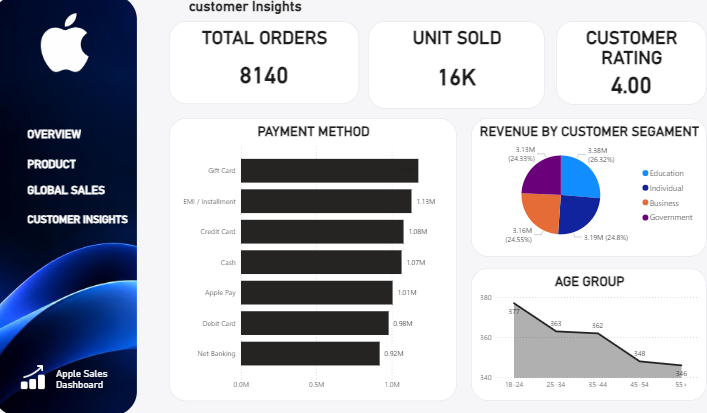

The dashboard page shown, as its layout file describes it:
{"tool":"powerbi","page":{"name":"Customer Insights","canvas":[1280,720],"ordinal":3},"visuals":[{"type":"card","title":"CUSTOMER RATING","fields":{"Values":["Avg(apple_global_sales_dataset (1).customer_rating)"]},"box":[962.5,43.7,257,142.8],"z":0},{"type":"card","title":"UNIT SOLD","fields":{"Values":["apple_global_sales_dataset (1).Total Units Sold"]},"box":[640.9,44.4,302.5,150.4],"z":1000},{"type":"card","title":"TOTAL ORDERS","fields":{"Values":["apple_global_sales_dataset (1).Total Orders"]},"box":[300.8,44.4,324.7,141.8],"z":2000},{"type":"clusteredBarChart","title":"PAYMENT METHOD","fields":{"Y":["apple_global_sales_dataset (1).Total Revenue"],"Category":["apple_global_sales_dataset (1).payment_method"]},"box":[300.7,210,492.2,483.8],"z":3000},{"type":"pieChart","title":"REVENUE BY CUSTOMER SEGAMENT","fields":{"Category":["apple_global_sales_dataset (1).customer_segment"],"Y":["apple_global_sales_dataset (1).Total Revenue"]},"box":[816.4,210,403.1,236.9],"z":4000},{"type":"areaChart","title":"AGE GROUP","fields":{"Y":["apple_global_sales_dataset (1).Total Orders"],"Category":["apple_global_sales_dataset (1).customer_age_group"]},"box":[816.4,467,403.1,226.8],"z":5000},{"type":"image","box":[0,0,246.1,719.5],"z":5001},{"type":"image","box":[25.6,30.8,194.8,100.8],"z":5002},{"type":"shape","title":"Apple Sales Dashboard","box":[107.7,637.8,151.7,53.9],"z":5003},{"type":"image","box":[43.9,618,46.8,69.4],"z":5004},{"type":"actionButton","box":[53.9,209.8,223.9,53.9],"z":5005},{"type":"actionButton","box":[53.9,360,219.7,45.4],"z":5006},{"type":"actionButton","box":[53.9,306.1,223.9,53.9],"z":5007},{"type":"actionButton","box":[53.9,262.2,223.9,53.9],"z":5008},{"type":"textbox","box":[329.8,0,358.9,53],"z":5009}]}

Visuals, with their boxes on the page's 1280x720 design canvas (x1, y1, x2, y2). These are canvas units, not pixel positions in the 707x413 screenshot, which may show the page scaled, cropped or inside an application window:
"CUSTOMER RATING" card: left=962, top=44, right=1220, bottom=186
"UNIT SOLD" card: left=641, top=44, right=943, bottom=195
"TOTAL ORDERS" card: left=301, top=44, right=626, bottom=186
"PAYMENT METHOD" clusteredBarChart: left=301, top=210, right=793, bottom=694
"REVENUE BY CUSTOMER SEGAMENT" pieChart: left=816, top=210, right=1220, bottom=447
"AGE GROUP" areaChart: left=816, top=467, right=1220, bottom=694
image: left=0, top=0, right=246, bottom=720
image: left=26, top=31, right=220, bottom=132
"Apple Sales Dashboard" shape: left=108, top=638, right=259, bottom=692
image: left=44, top=618, right=91, bottom=687
actionButton: left=54, top=210, right=278, bottom=264
actionButton: left=54, top=360, right=274, bottom=405
actionButton: left=54, top=306, right=278, bottom=360
actionButton: left=54, top=262, right=278, bottom=316
textbox: left=330, top=0, right=689, bottom=53
